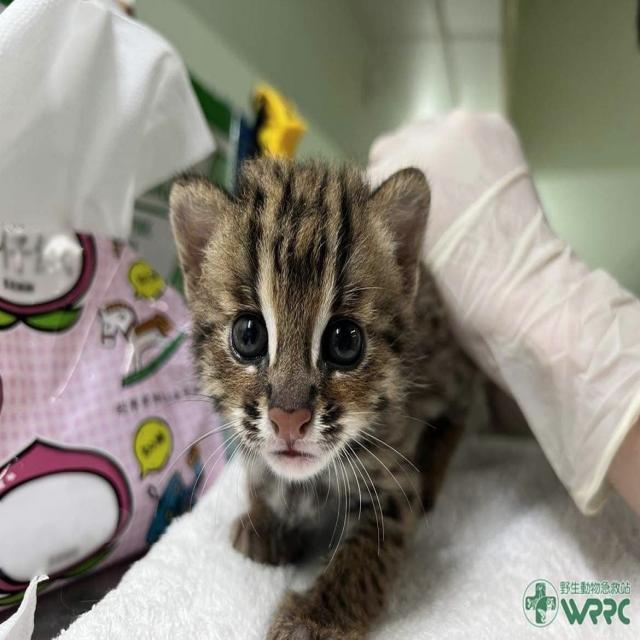leopard: (168, 158, 494, 529)
